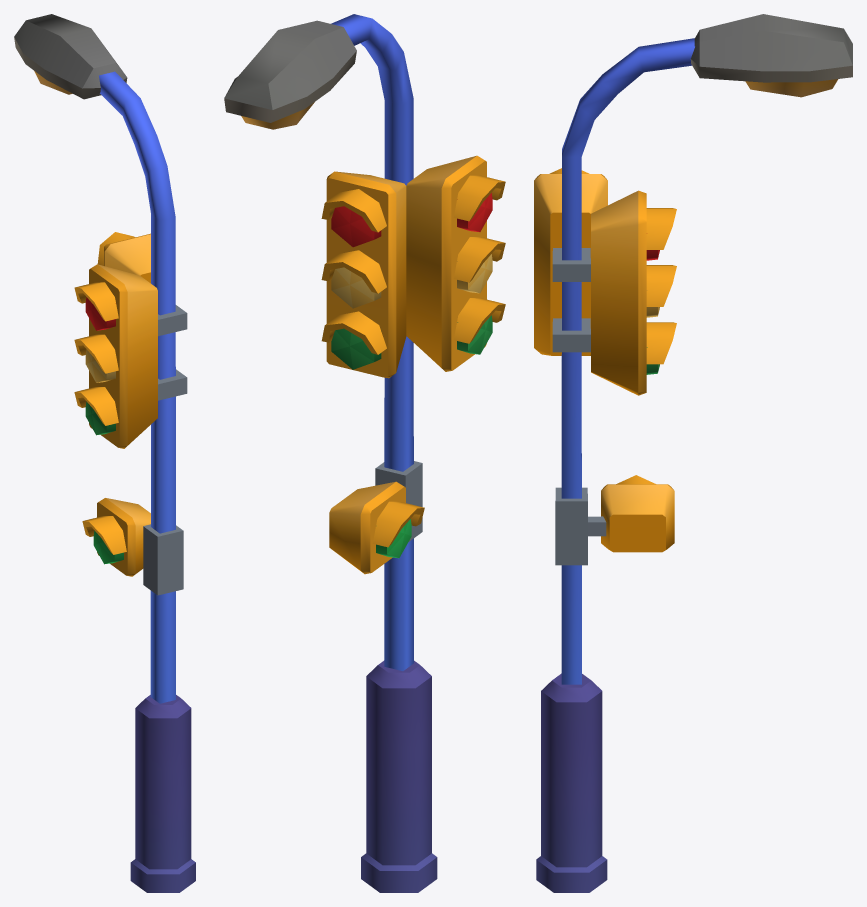
File: Lights_6_B.fbx
3 renders of one model, left to right at view 1: azimuth 30°, elevation 25°; view 2: azimuth 150°, elevation 25°; view 3: azimuth 270°, elevation 25°, orthographic. The views are drawn at different scales.
Parts seen in each view (by area): view 1: Lights_6_B; view 2: Lights_6_B; view 3: Lights_6_B.
Part boxes in pixels (x1,y1,x2,y2): Lights_6_B: (14,14,195,892); Lights_6_B: (224,14,505,892); Lights_6_B: (534,14,852,892).
Size of the model in its own units: 64.76 by 423 by 143.
